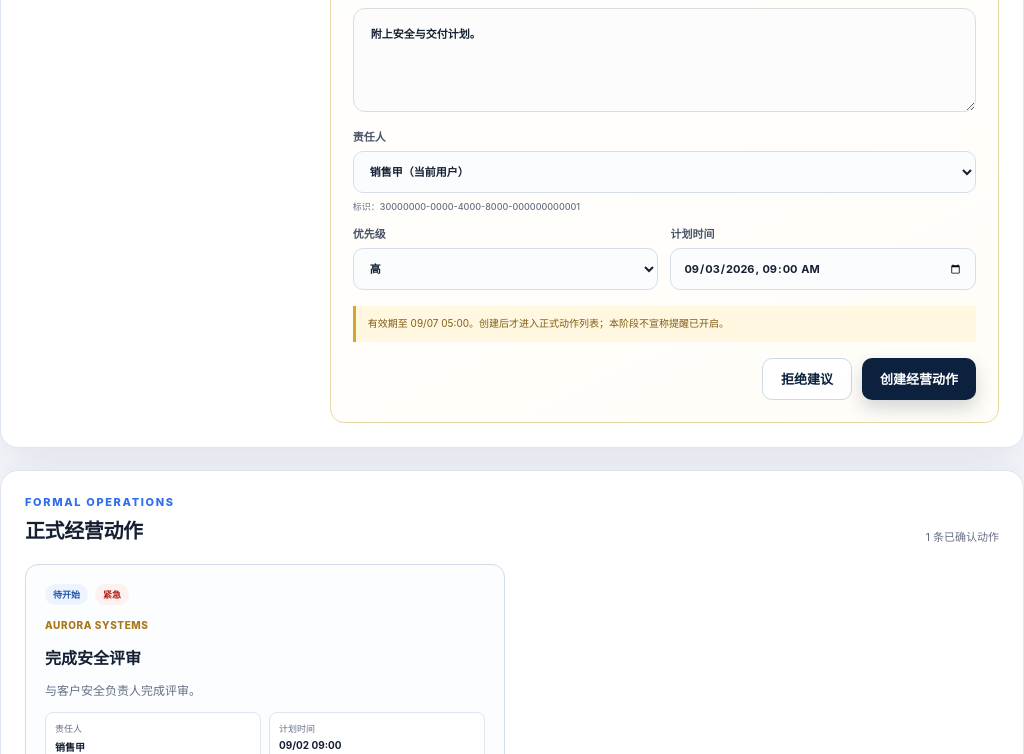
Test: ActionWorkspace › reuses the acceptance idempotency key after a recoverable failure
(page scrolled)
Step 1. Click the button "创建经营动作" → (919, 378), box [862, 358, 976, 400]
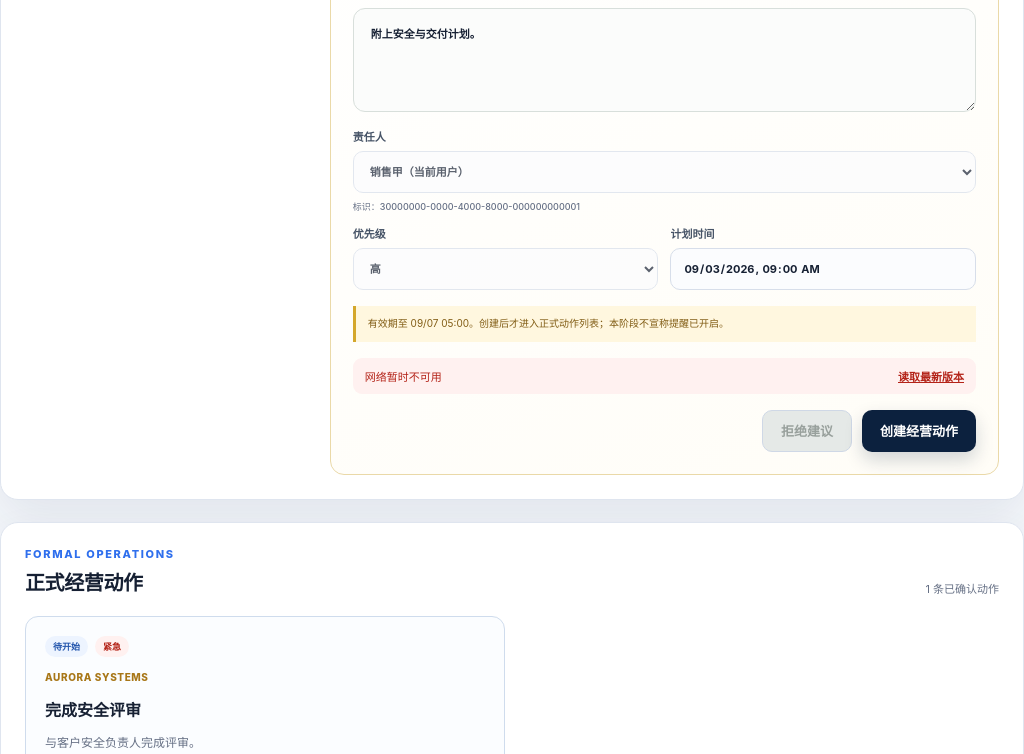
Check: the message shows "网络暂时不可用", box [365, 370, 442, 384]
Check: the button "拒绝建议" is disabled, box [762, 410, 852, 452]
Step 2. Click the button "创建经营动作" → (919, 430), box [862, 410, 976, 452]
(page scrolled)
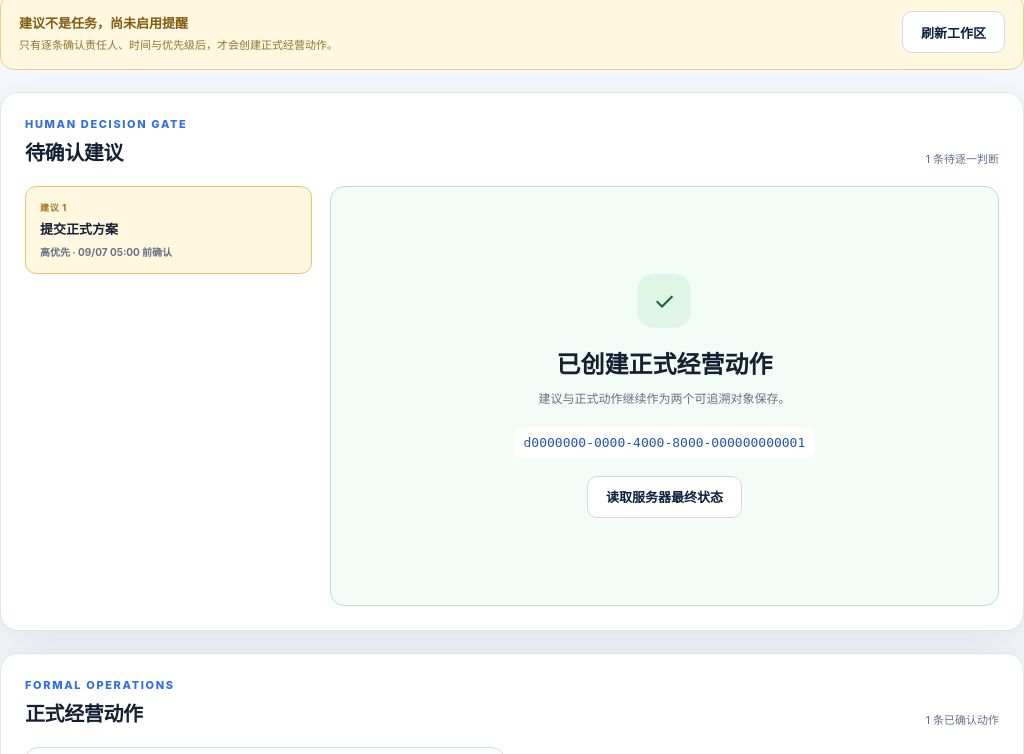
Check: the heading "已创建正式经营动作" is shown, box [556, 345, 772, 380]
